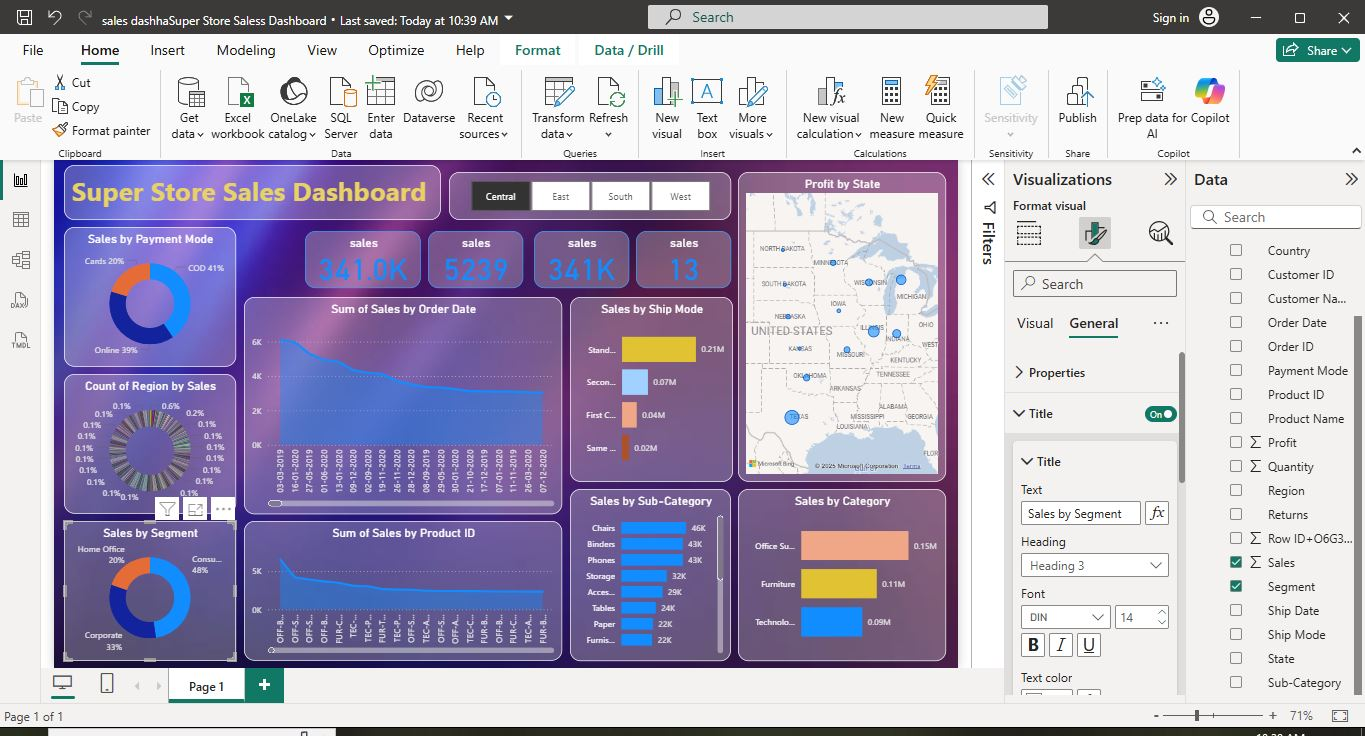

The dashboard page shown, as its layout file describes it:
{"tool":"powerbi","page":{"name":"Page 1","canvas":[1280,720],"ordinal":0},"visuals":[{"type":"clusteredBarChart","title":" Sales by Category","fields":{"Category":["SuperStore_Sales_Dataset.Category"],"Y":["Sum(SuperStore_Sales_Dataset.Sales)"]},"box":[969.4,466.3,294.8,243.8],"z":0},{"type":"clusteredBarChart","title":"Sales by Sub-Category","fields":{"Category":["SuperStore_Sales_Dataset.Sub-Category","SuperStore_Sales_Dataset.Category"],"Y":["Sum(SuperStore_Sales_Dataset.Sales)"]},"box":[731.3,466.3,228.2,243.8],"z":1000},{"type":"clusteredBarChart","title":" Sales by Ship Mode","fields":{"Y":["Sum(SuperStore_Sales_Dataset.Sales)"],"Category":["SuperStore_Sales_Dataset.Ship Mode"]},"box":[731.3,194.2,231,262.2],"z":2000},{"type":"map","title":"Profit by State","fields":{"Category":["SuperStore_Sales_Dataset.State"],"Size":["Sum(SuperStore_Sales_Dataset.Sales)"]},"box":[969.4,17,294.8,439.4],"z":3000},{"type":"donutChart","title":"Sales by Segment","fields":{"Category":["SuperStore_Sales_Dataset.Segment"],"Y":["Sum(SuperStore_Sales_Dataset.Sales)"]},"box":[14.2,511.7,243.8,198.4],"z":4000},{"type":"slicer","fields":{"Values":["SuperStore_Sales_Dataset.Region"]},"box":[559.8,17,399.7,68],"z":5000},{"type":"card","title":"sales","fields":{"Values":["Sum(SuperStore_Sales_Dataset.Sales)"]},"box":[355.7,100.6,164.4,80.8],"z":6000},{"type":"card","title":"sales","fields":{"Values":["Avg(SuperStore_Sales_Dataset.AvyDelivery)"]},"box":[824.9,100.6,134.6,80.8],"z":7000},{"type":"card","title":"sales","fields":{"Values":["Sum(SuperStore_Sales_Dataset.Quantity)"]},"box":[530.1,100.6,134.6,80.8],"z":8000},{"type":"card","title":"sales","fields":{"Values":["Sum(SuperStore_Sales_Dataset.Sales)"]},"box":[680.3,100.6,134.6,80.8],"z":9000},{"type":"donutChart","title":"Sales by Payment Mode","fields":{"Category":["SuperStore_Sales_Dataset.Payment Mode"],"Y":["Sum(SuperStore_Sales_Dataset.Sales)"]},"box":[14.2,95,243.8,198.4],"z":10000},{"type":"textbox","box":[14.2,7.1,534.3,78],"z":11000},{"type":"areaChart","fields":{"Category":["SuperStore_Sales_Dataset.Order Date"],"Y":["Sum(SuperStore_Sales_Dataset.Sales)"]},"box":[269.3,194.2,450.7,307.6],"z":12000},{"type":"donutChart","fields":{"Category":["SuperStore_Sales_Dataset.Sales"],"Y":["CountNonNull(SuperStore_Sales_Dataset.Region)"]},"box":[14.2,303.3,243.8,198.4],"z":13000},{"type":"areaChart","fields":{"Y":["Sum(SuperStore_Sales_Dataset.Sales)"],"Category":["SuperStore_Sales_Dataset.Product ID"]},"box":[269.3,511.7,450.7,198.4],"z":14000}]}

Visuals, with their boxes on the page's 1280x720 design canvas (x1, y1, x2, y2). These are canvas units, not pixel positions in the 1365x736 screenshot, which may show the page scaled, cropped or inside an application window:
" Sales by Category" clusteredBarChart: box(969, 466, 1264, 710)
"Sales by Sub-Category" clusteredBarChart: box(731, 466, 960, 710)
" Sales by Ship Mode" clusteredBarChart: box(731, 194, 962, 456)
"Profit by State" map: box(969, 17, 1264, 456)
"Sales by Segment" donutChart: box(14, 512, 258, 710)
slicer - SuperStore_Sales_Dataset.Region: box(560, 17, 960, 85)
"sales" card: box(356, 101, 520, 181)
"sales" card: box(825, 101, 960, 181)
"sales" card: box(530, 101, 665, 181)
"sales" card: box(680, 101, 815, 181)
"Sales by Payment Mode" donutChart: box(14, 95, 258, 293)
textbox: box(14, 7, 548, 85)
areaChart - SuperStore_Sales_Dataset.Order Date x Sum(SuperStore_Sales_Dataset.Sales): box(269, 194, 720, 502)
donutChart - SuperStore_Sales_Dataset.Sales x CountNonNull(SuperStore_Sales_Dataset.Region): box(14, 303, 258, 502)
areaChart - Sum(SuperStore_Sales_Dataset.Sales) x SuperStore_Sales_Dataset.Product ID: box(269, 512, 720, 710)
